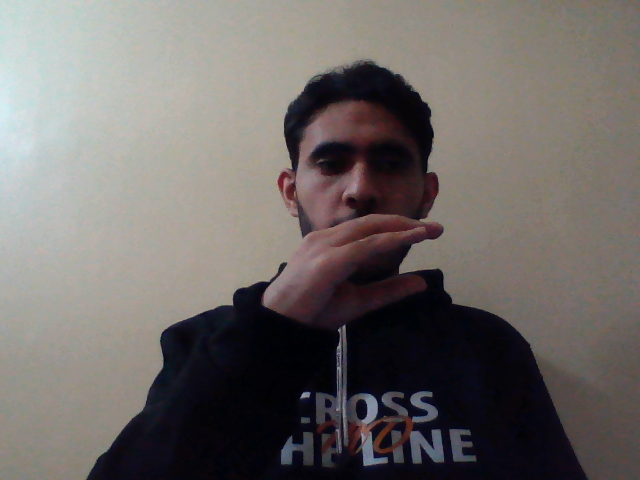C: (251, 213, 428, 333)
